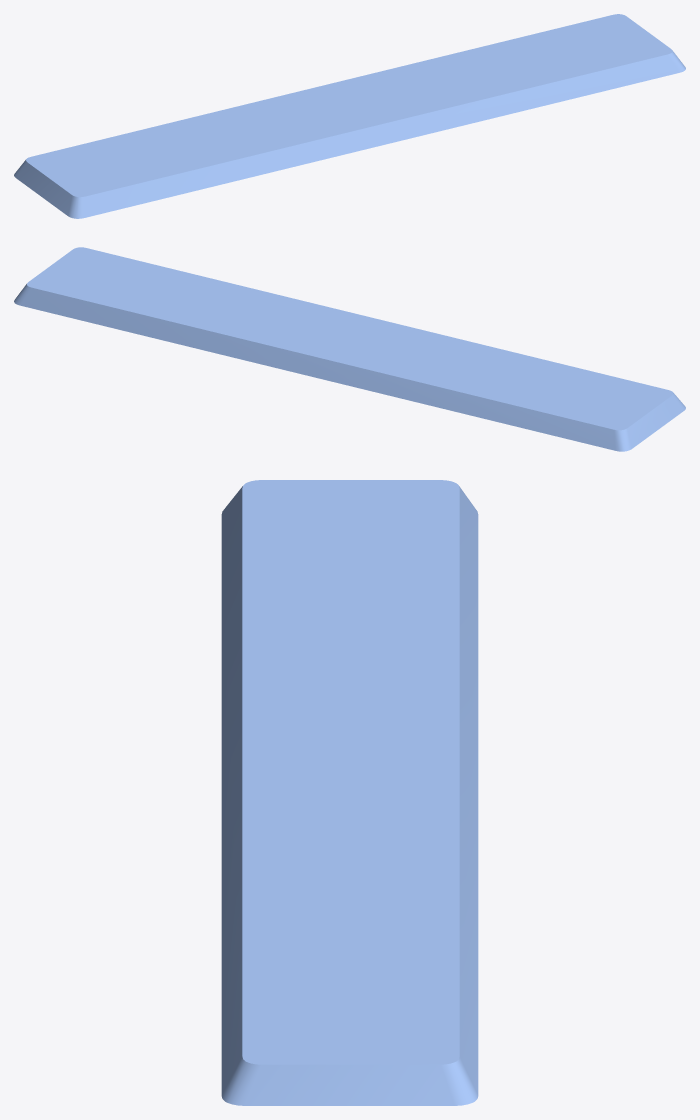
File: original-17.obj
The picture shows the model from 3 angles, top to bottom: view 1: azimuth 30°, elevation 25°; view 2: azimuth 150°, elevation 25°; view 3: azimuth 270°, elevation 25°; orthographic projection. The views are drawn at different scales.
Parts seen in each view (by area): view 1: mesh14/mesh14-geometry#mesh14-geometry; view 2: mesh14/mesh14-geometry#mesh14-geometry; view 3: mesh14/mesh14-geometry#mesh14-geometry.
Boxes of the visible parts, bbox=[...] form: mesh14/mesh14-geometry#mesh14-geometry: bbox=[14, 14, 685, 218]; mesh14/mesh14-geometry#mesh14-geometry: bbox=[14, 247, 685, 451]; mesh14/mesh14-geometry#mesh14-geometry: bbox=[221, 480, 478, 1105].
Size of the model in its own units: 0.4782 by 0.0186 by 0.0863.
